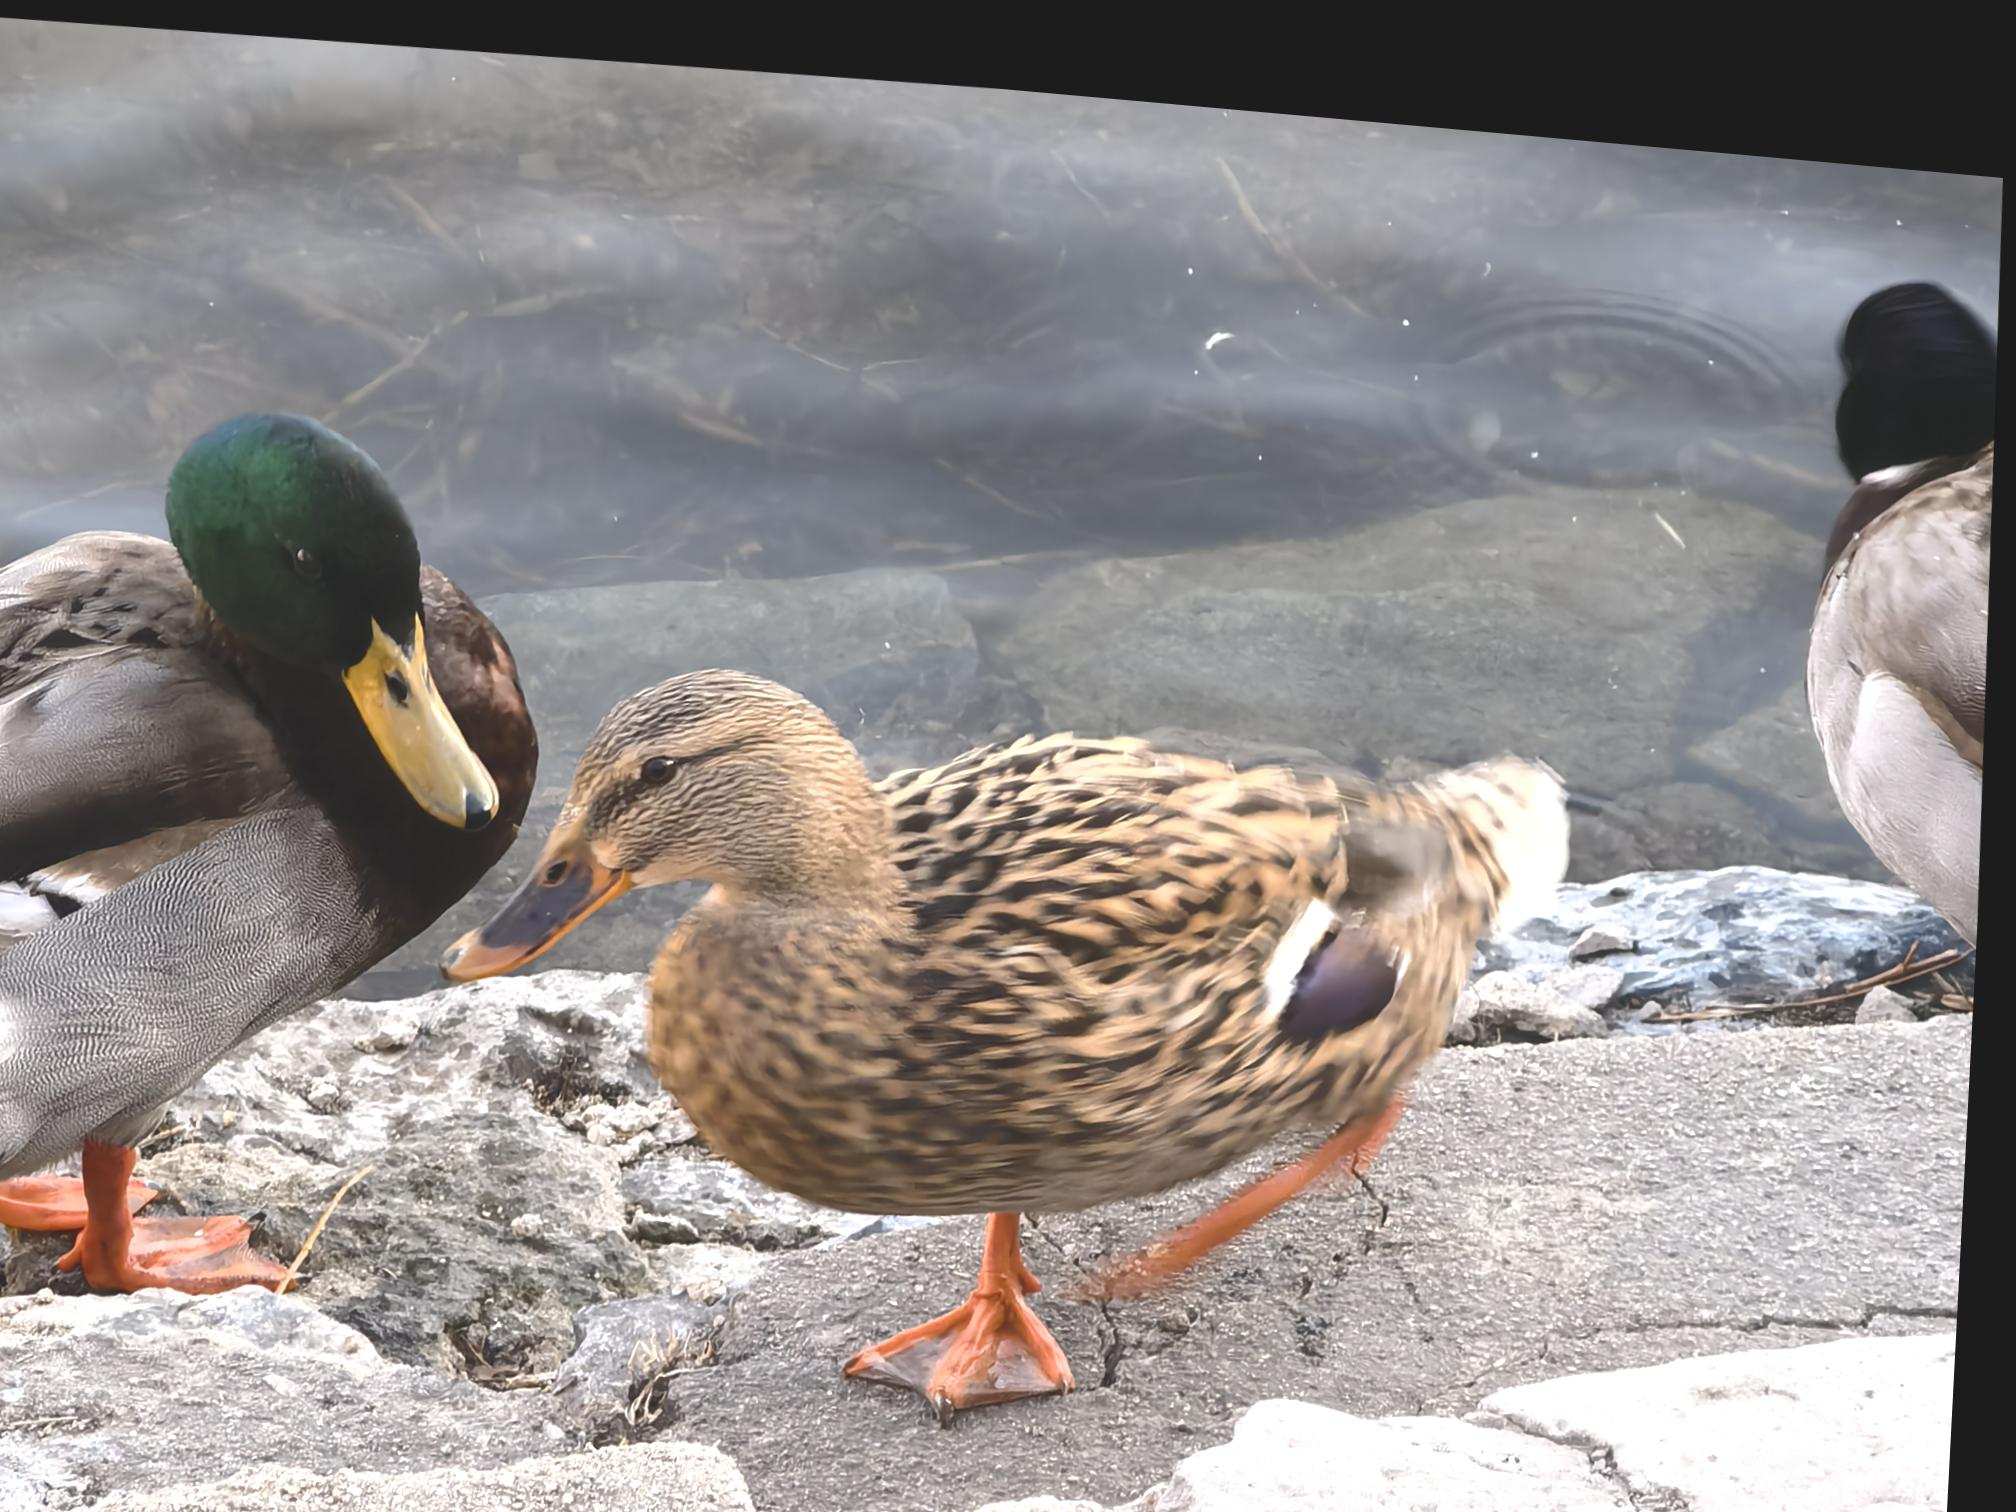duck: (429, 600, 1603, 1458), (0, 372, 562, 1325)
